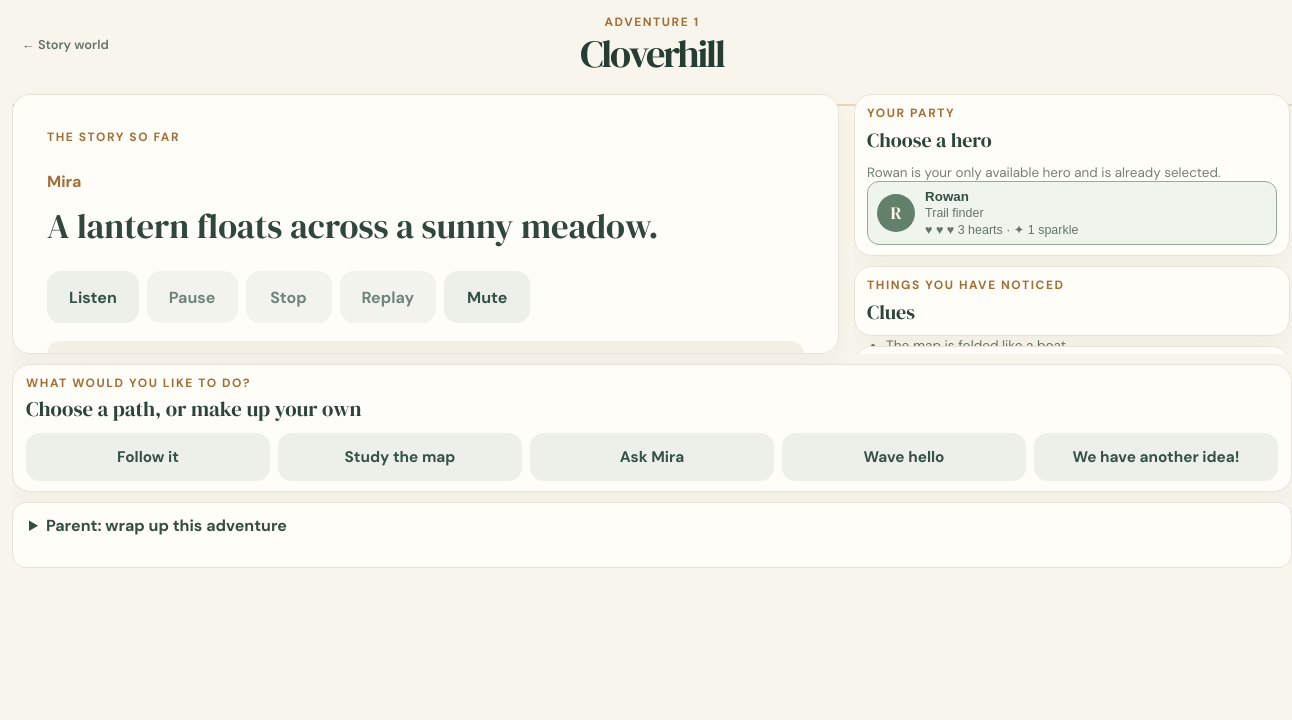
AdventurePlayScreen › autoplays only when a newly received story beat arrives
The width and height of the screenshot is (1292, 720).
Click the button "Follow it". click: (148, 457)
box: [26,433,270,481]
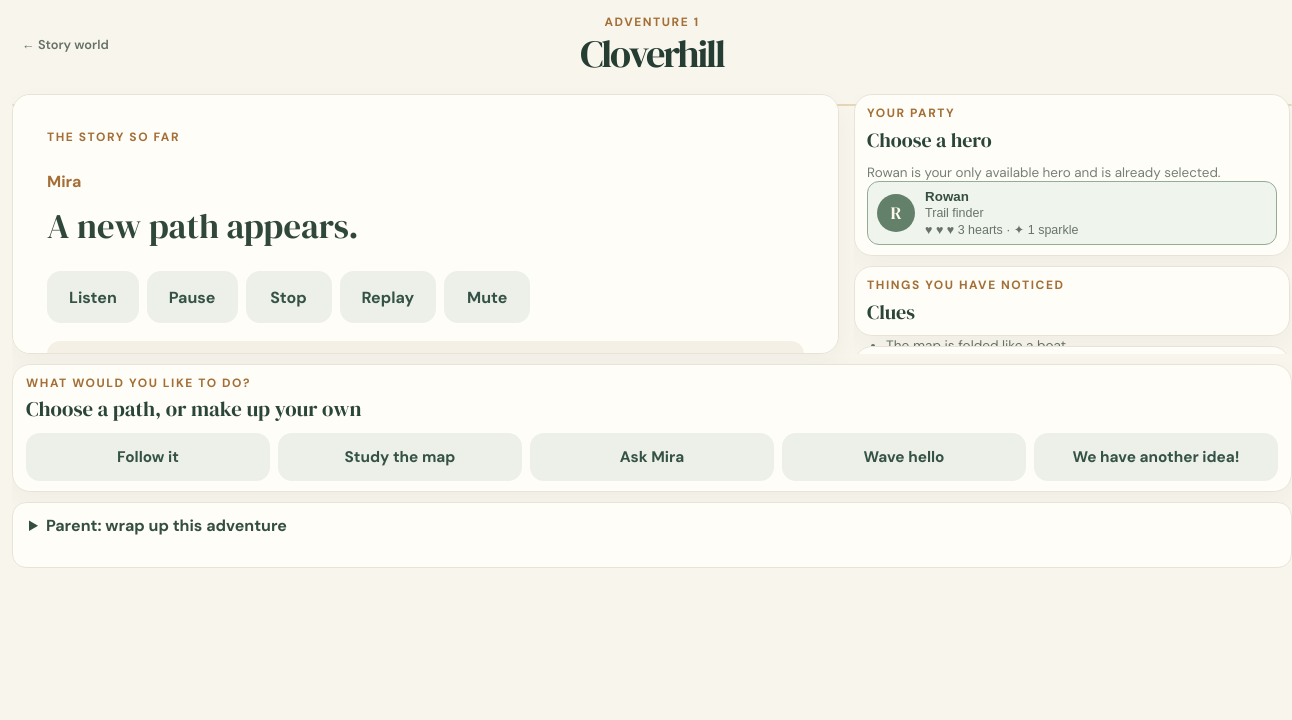
Now the text "A new path appears." is shown, box [47,202,359,250]
